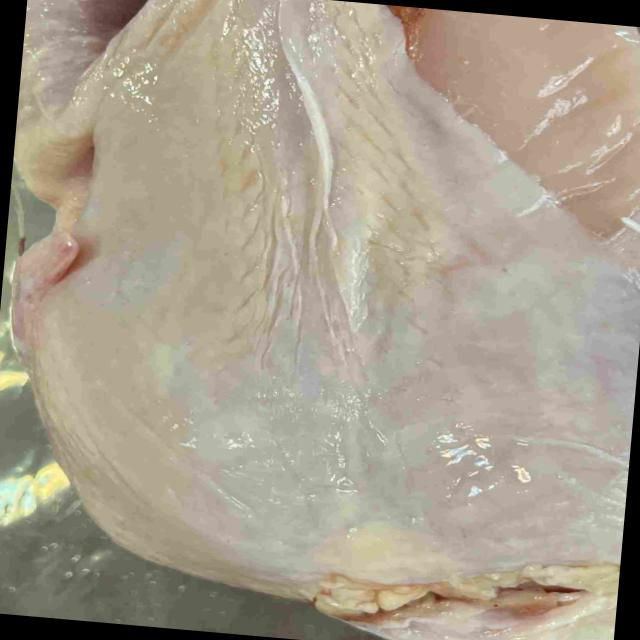breast: (16, 0, 640, 570)
leg: (13, 0, 137, 208)
